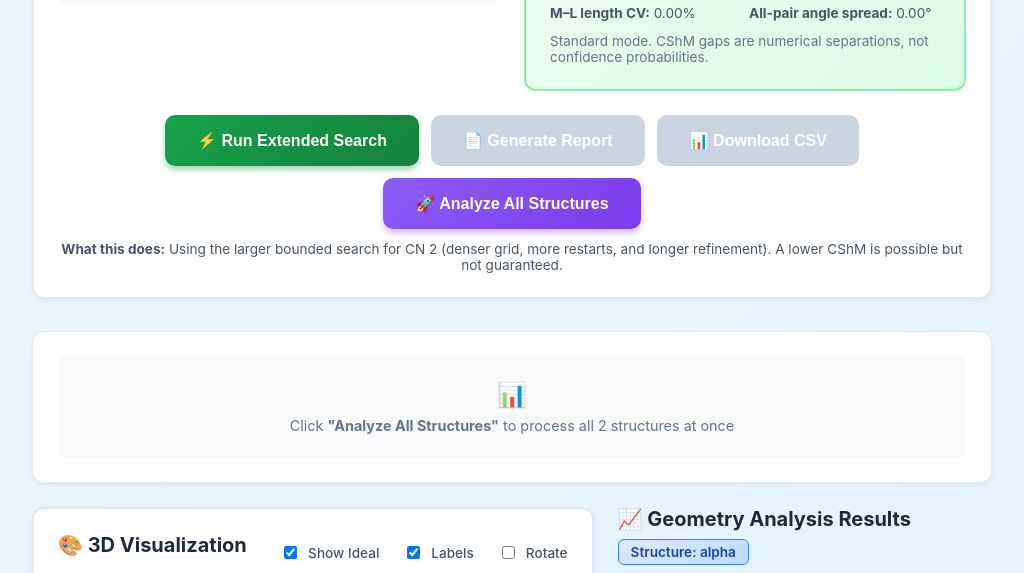
Test case: batch rows and selected analysis use the same stored result › editing one radius invalidates only that saved row
The width and height of the screenshot is (1024, 573).
(page scrolled)
Click the button "🚀 Analyze All Structures". click: (512, 203)
box: [384,178,641,229]
(page scrolled)
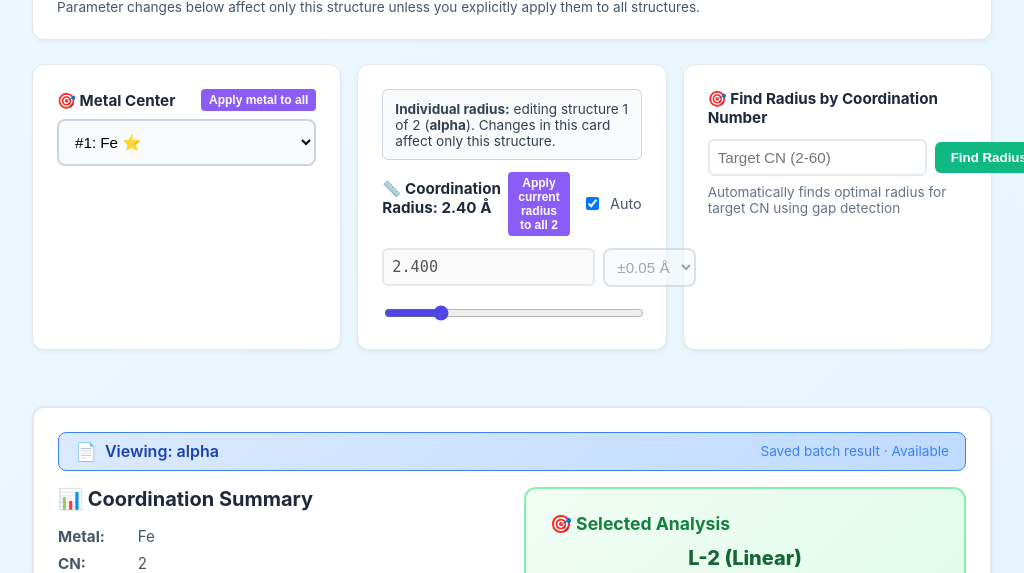
Click the checkbox labelled "Auto". click: (592, 204)
box: [586,197,599,210]
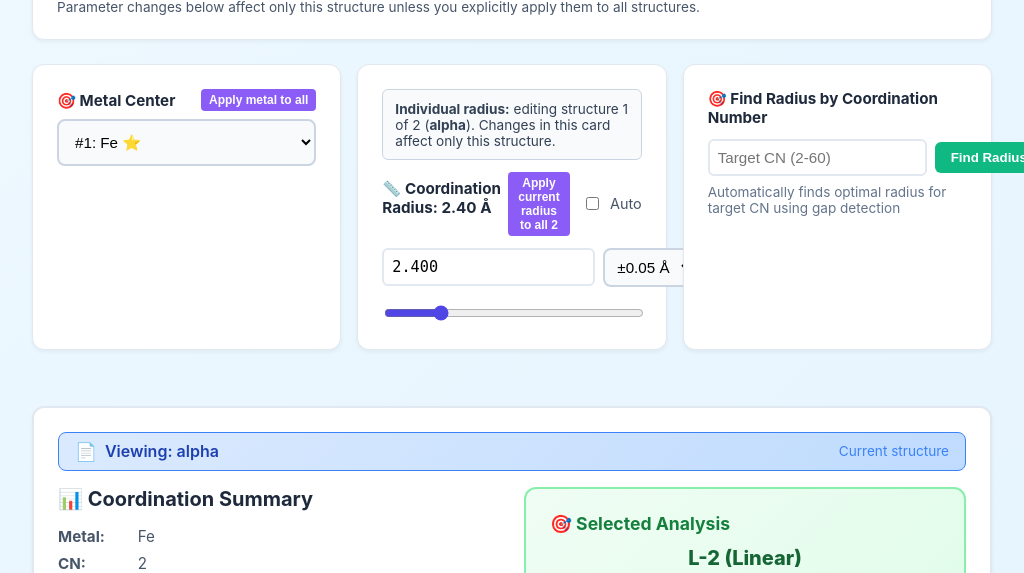
Replace the text in the field named "Coordination radius value" with "2.8". click: (489, 267)
box: [382,248,595,286]
(page scrolled)
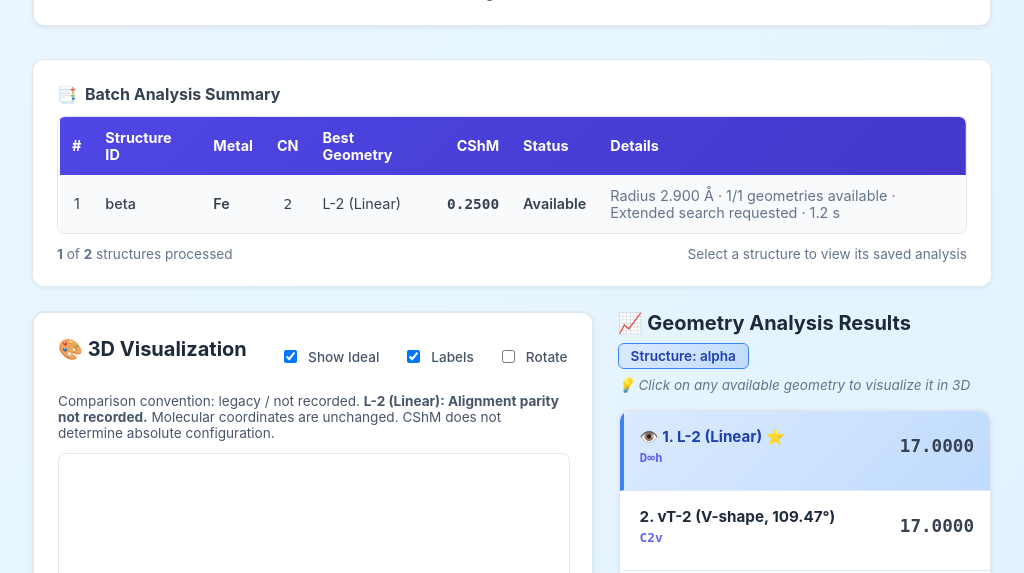
Check: the button with aria-label "View structure beta" is shown
Click the button with aria-label "View structure beta". click: (121, 204)
box: [105,195,136,212]
(page scrolled)
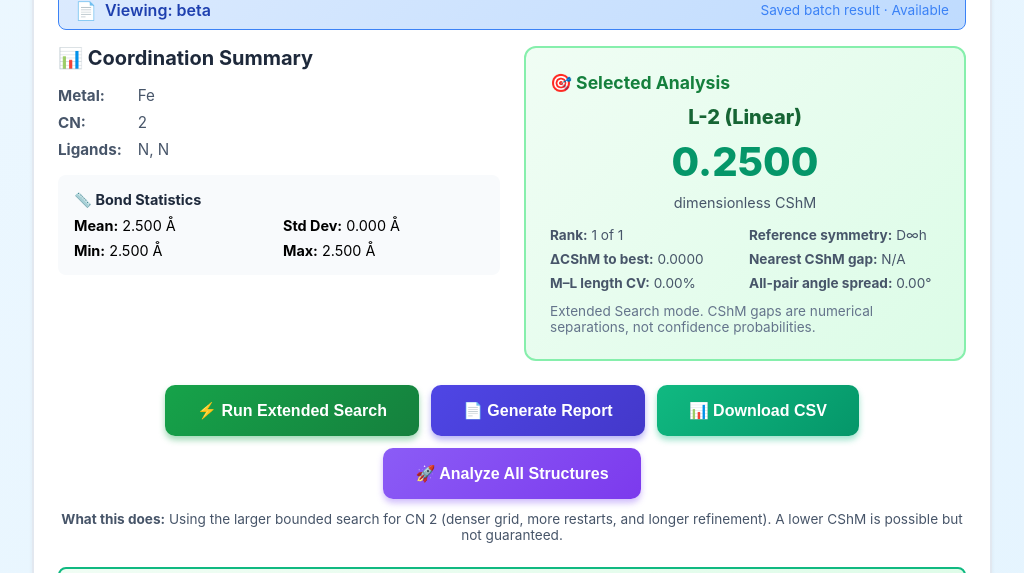
Check: the element that starts with "🎯 Selected Analysis" shows "0.2500", box [672,137,818,186]
